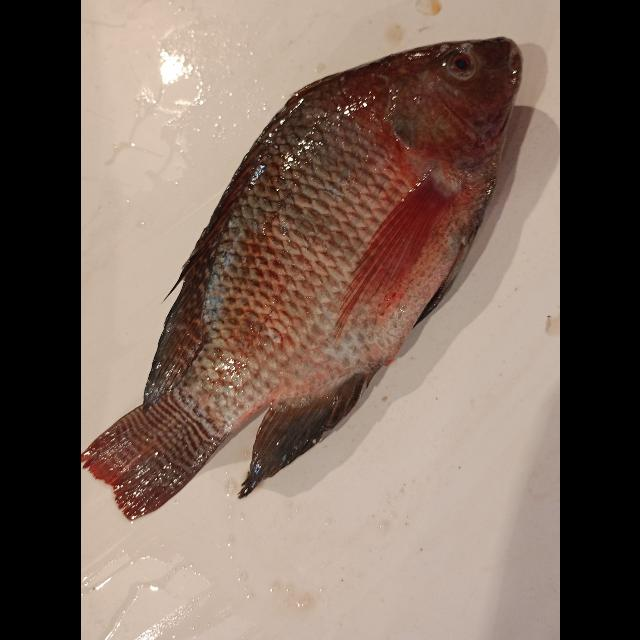Tilapia: (80, 36, 524, 520)
